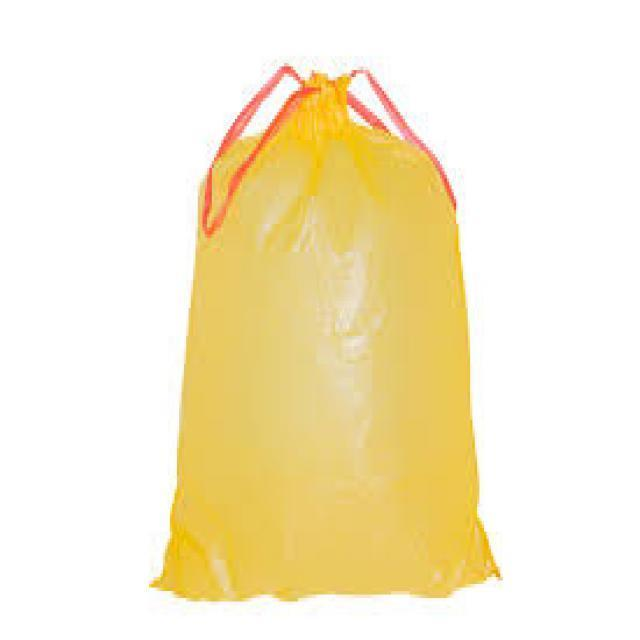waste: (156, 62, 502, 607)
